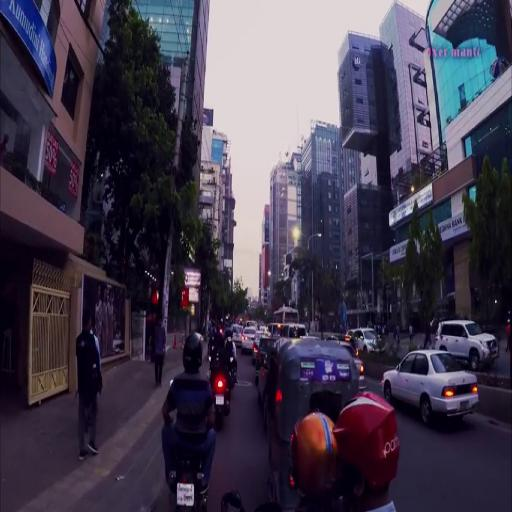bus: (273, 306, 300, 326)
car: (380, 349, 479, 424), (352, 327, 381, 352), (251, 332, 270, 361), (242, 325, 258, 349), (232, 323, 245, 342)
motorbike: (170, 447, 208, 512), (208, 353, 234, 429)
suv: (435, 318, 501, 368)
three wheelers (CNG): (268, 338, 359, 507)
